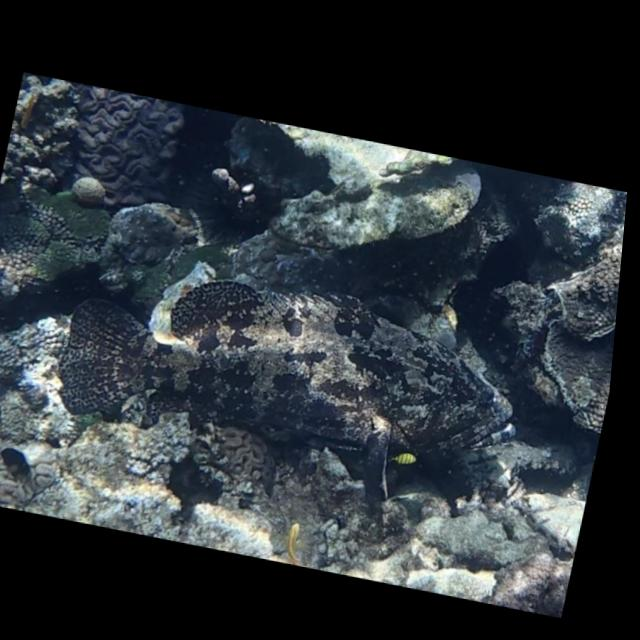Groupers: (41, 240, 542, 525)
